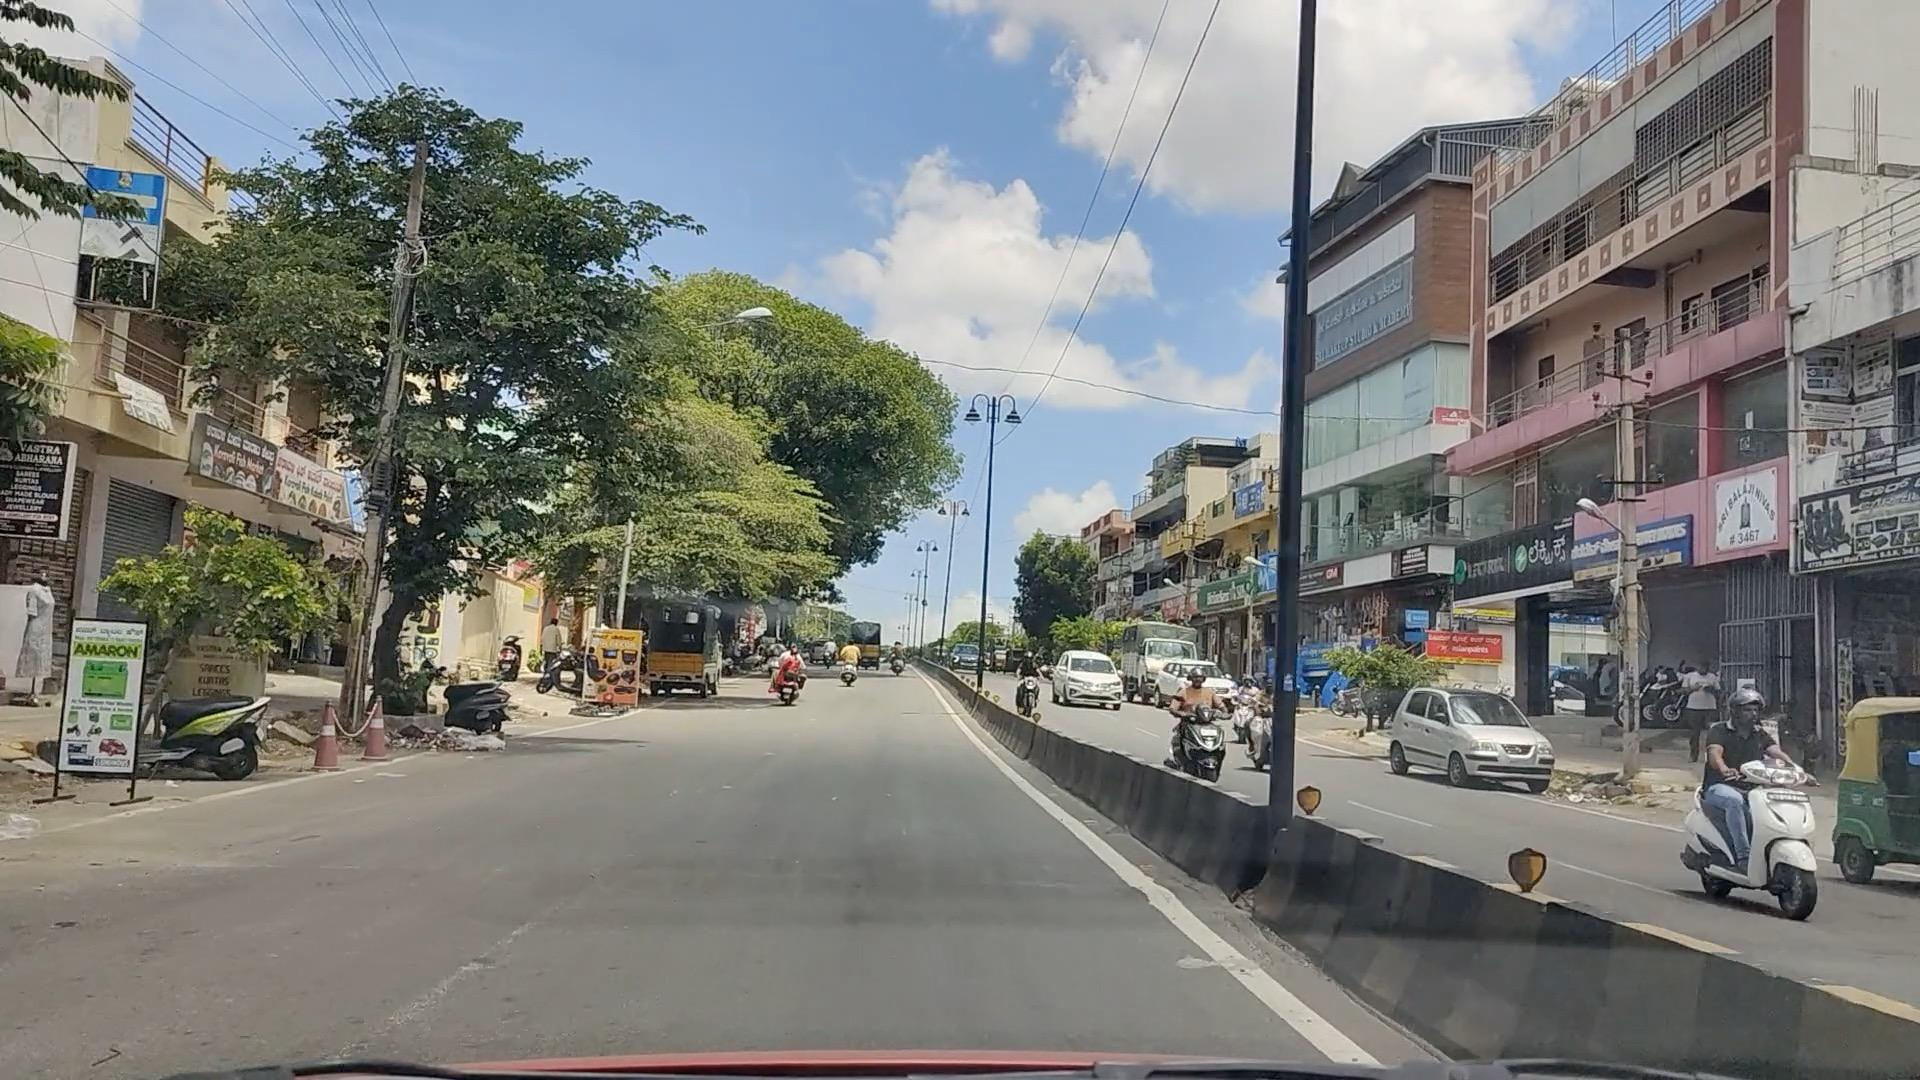HMV: (625, 567, 731, 702)
